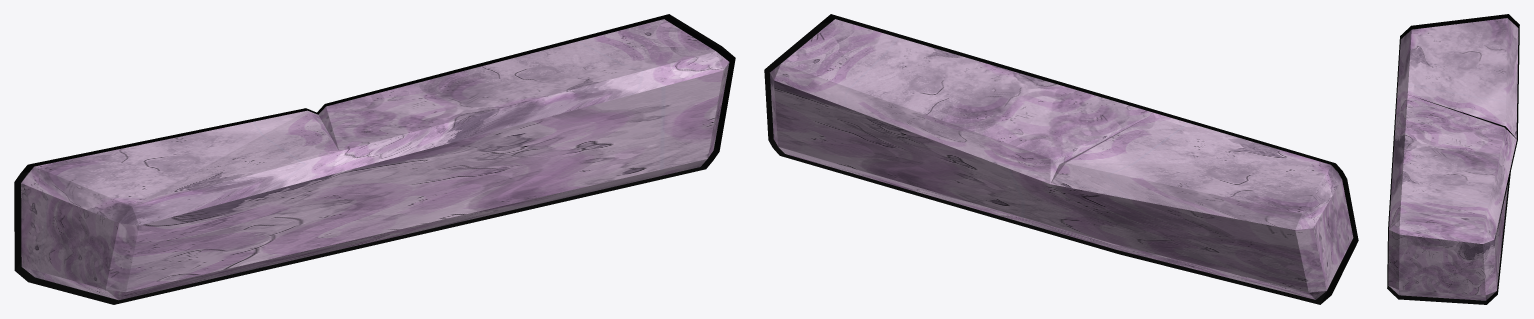
The model's file is s0_Brick_Step_01__1__01.glb.
3 renders of one model, left to right at view 1: azimuth 30°, elevation 25°; view 2: azimuth 150°, elevation 25°; view 3: azimuth 270°, elevation 25°, orthographic. The views are drawn at different scales.
Visible parts, largest first — view 1: node_Brick_Step_01 (1); view 2: node_Brick_Step_01 (1); view 3: node_Brick_Step_01 (1).
Part boxes in pixels (x1,y1,x2,y2): node_Brick_Step_01 (1): (14, 14, 735, 304); node_Brick_Step_01 (1): (764, 14, 1358, 304); node_Brick_Step_01 (1): (1387, 14, 1519, 304).
Size of what is drawn, in the model's own units: 5.82 by 1.11 by 1.39.
Materials: 2 (1 with a texture image).
